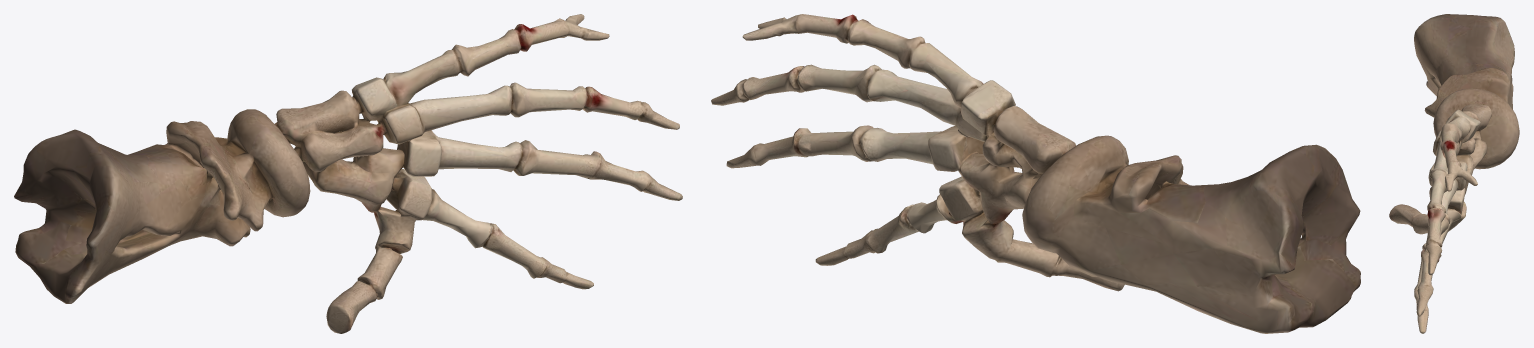
The model's file is armbones.glb.
The picture shows the model from 3 angles, left to right: view 1: azimuth 30°, elevation 25°; view 2: azimuth 150°, elevation 25°; view 3: azimuth 270°, elevation 25°; orthographic projection. The views are drawn at different scales.
Parts seen in each view (by area): view 1: Mesh_0; view 2: Mesh_0; view 3: Mesh_0.
Boxes of the visible parts, left/top/right/bottom form: Mesh_0: left=14, top=14, right=682, bottom=333; Mesh_0: left=711, top=14, right=1360, bottom=333; Mesh_0: left=1389, top=14, right=1519, bottom=333.
Bounding box in the file's own units: 1.9 × 0.7709 × 0.5157.
Materials: 1 (1 with a texture image).
